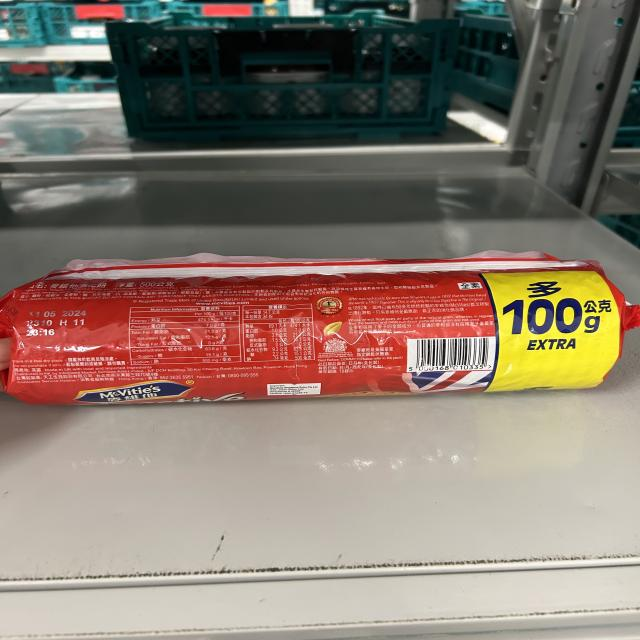object_name: (19, 266, 616, 393)
